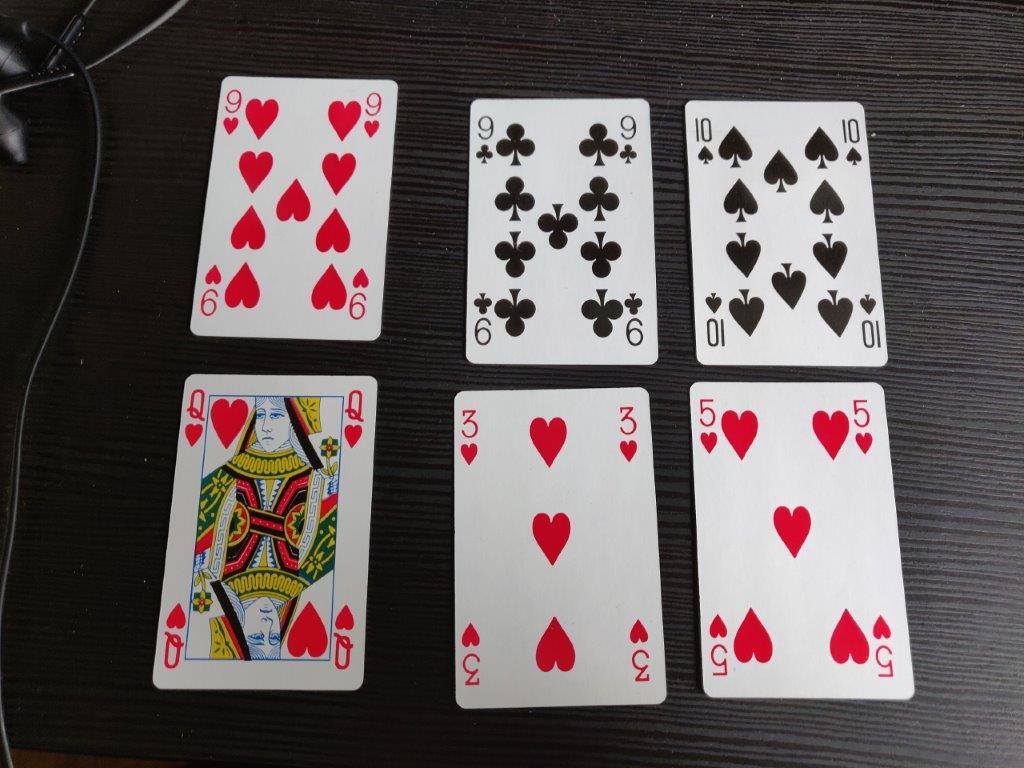10S: (836, 112, 867, 169), (691, 112, 716, 169)
3H: (615, 404, 645, 466), (456, 409, 482, 468)
5H: (848, 394, 881, 459), (693, 394, 720, 458)
9C: (471, 110, 497, 164), (617, 111, 639, 165)
9H: (359, 88, 387, 142), (217, 85, 242, 138)
QH: (339, 387, 367, 451), (183, 384, 208, 449)
